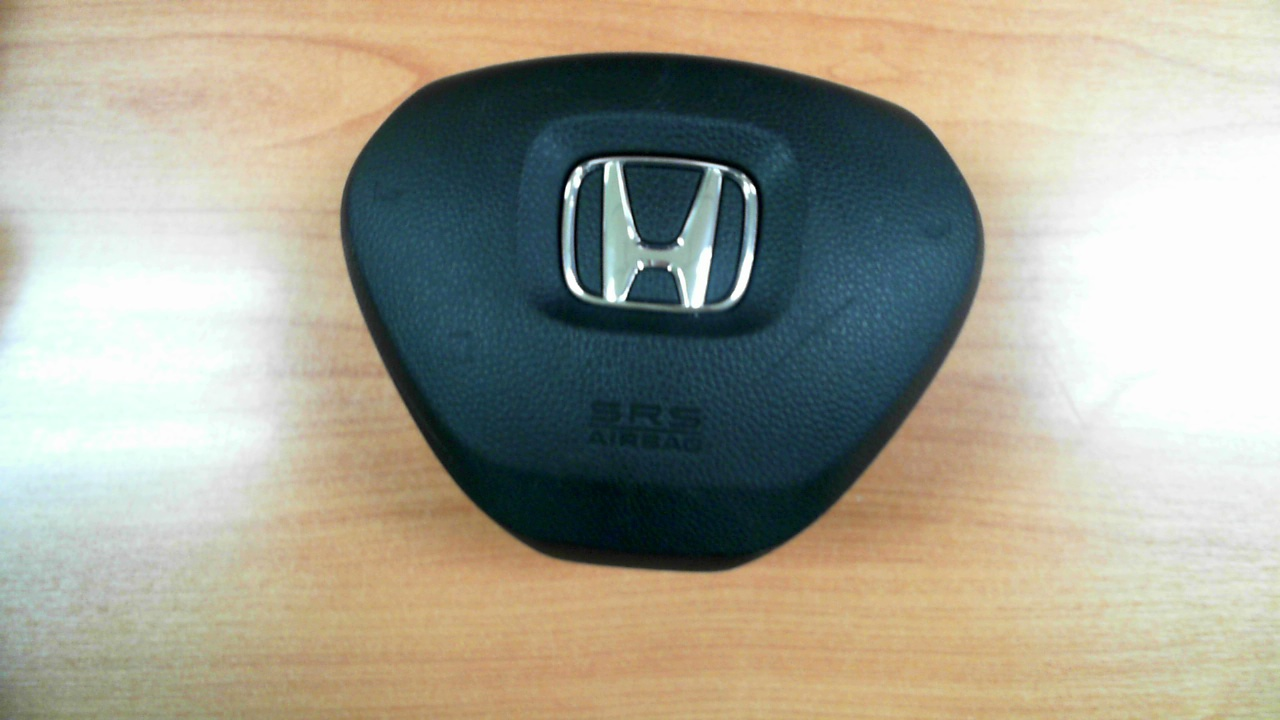Airbag: (340, 52, 986, 574)
Honda: (560, 155, 759, 315)
